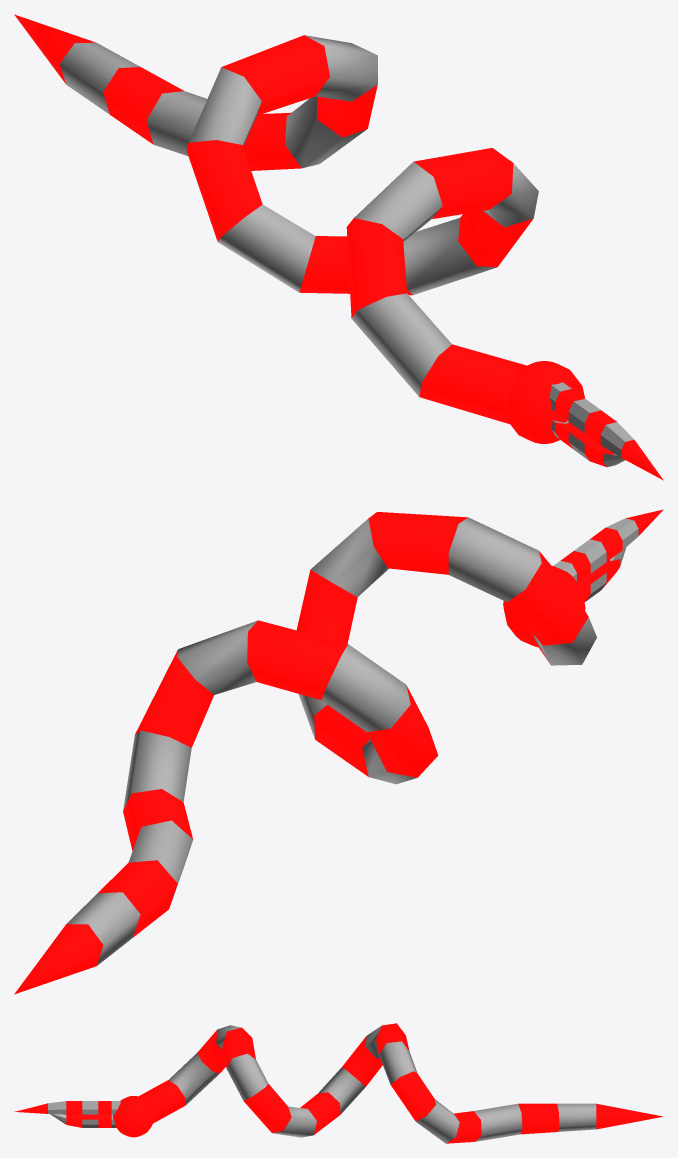
Rendered from enemy4.fbx.
The picture shows the model from 3 angles, top to bottom: view 1: azimuth 30°, elevation 25°; view 2: azimuth 150°, elevation 25°; view 3: azimuth 270°, elevation 25°; orthographic projection. The views are drawn at different scales.
Visible parts, largest first — view 1: Ene_SNK; view 2: Ene_SNK; view 3: Ene_SNK.
Boxes of the visible parts, left/top/right/bottom form: Ene_SNK: left=14, top=14, right=663, bottom=480; Ene_SNK: left=14, top=509, right=663, bottom=994; Ene_SNK: left=14, top=1023, right=662, bottom=1143.
Size of the model in its own units: 257 by 217 by 1250.
